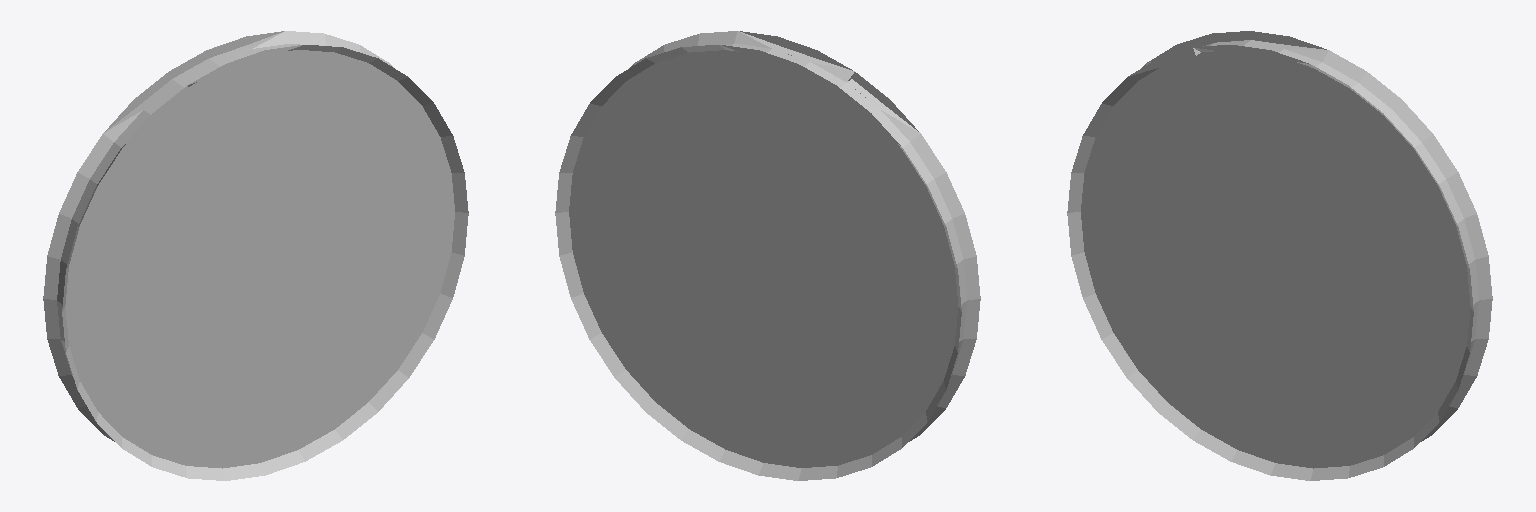
Rendered from coin0102.obj.
The picture shows the model from 3 angles: view 1: azimuth 30°, elevation 25°; view 2: azimuth 150°, elevation 25°; view 3: azimuth 330°, elevation 25°; orthographic projection.
Visible parts, largest first — view 1: Cylinder.002, Cylinder; view 2: Cylinder.001, Cylinder; view 3: Cylinder.002, Cylinder.
Boxes of the visible parts, x1=… form: Cylinder.002: x1=65, y1=50, x2=454, y2=468; Cylinder: x1=43, y1=31, x2=468, y2=480; Cylinder.001: x1=569, y1=50, x2=957, y2=467; Cylinder: x1=555, y1=31, x2=980, y2=480; Cylinder.002: x1=1081, y1=51, x2=1470, y2=468; Cylinder: x1=1067, y1=31, x2=1492, y2=480.
Bounding box in the file's own units: 2 × 2 × 0.16.